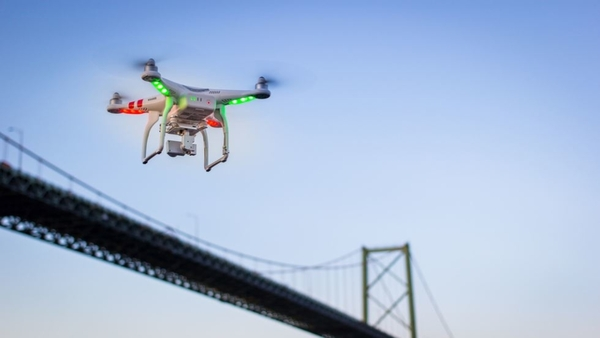drone: (105, 52, 278, 173)
